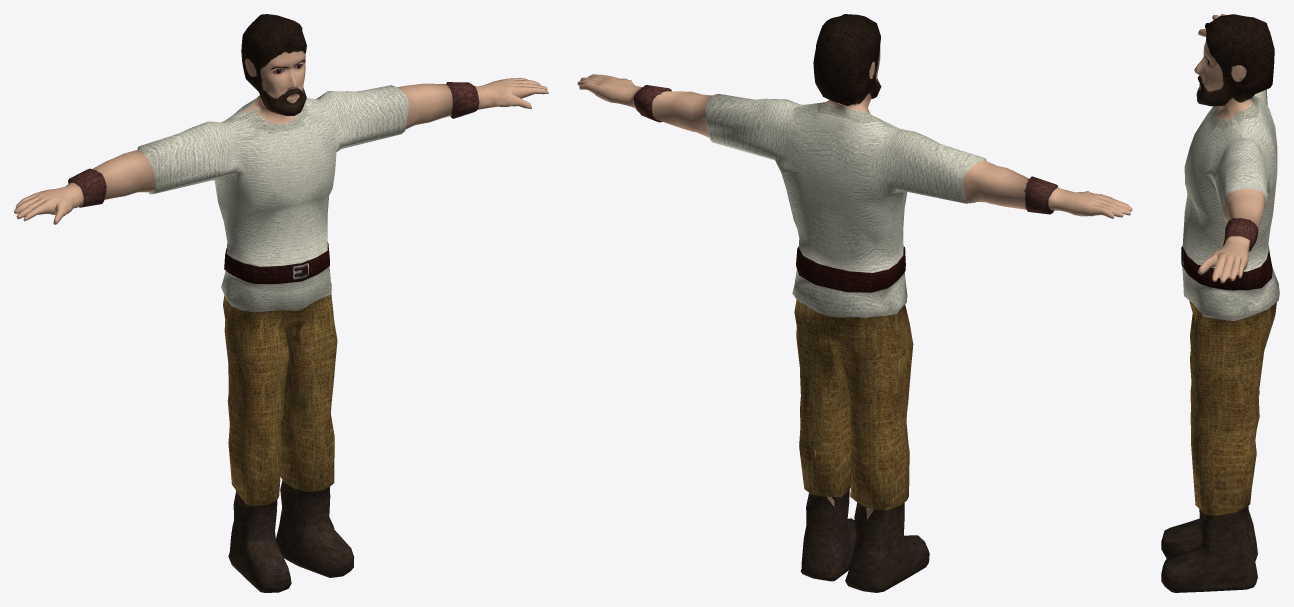
File: lumberJack.obj
3 views of the same model, side by side, from view 1: azimuth 30°, elevation 25°; view 2: azimuth 150°, elevation 25°; view 3: azimuth 270°, elevation 25° (orthographic). The views are drawn at different scales.
Visible parts, largest first — view 1: lumberJack; view 2: lumberJack; view 3: lumberJack.
Boxes of the visible parts, x1,y1,x2,y2 form: lumberJack: (14, 14, 548, 592); lumberJack: (577, 14, 1132, 592); lumberJack: (1161, 14, 1279, 592).
Bounding box in the file's own units: 1.86 × 1.81 × 0.3512.
